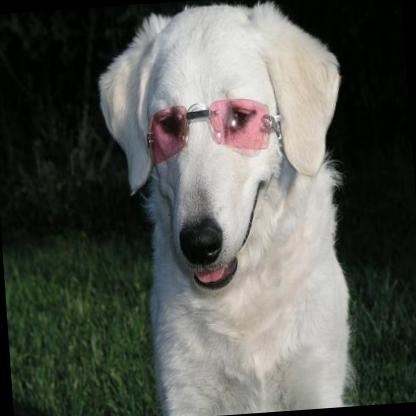kuvasz: (92, 0, 362, 416)
